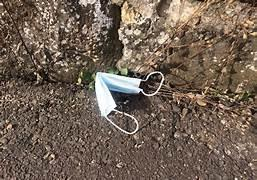Mask: (95, 71, 163, 133)
